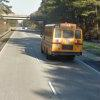Bus: (38, 18, 86, 60)
